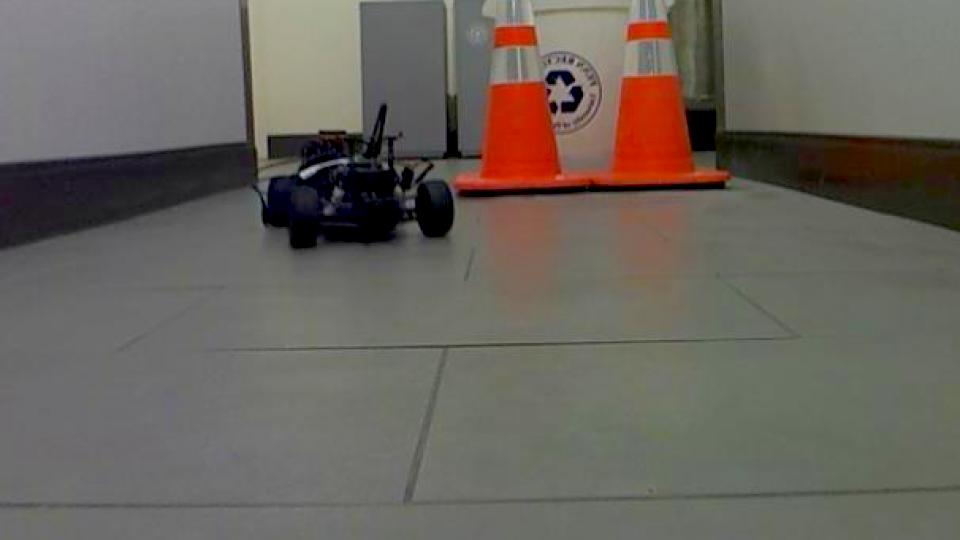car: (254, 100, 456, 251)
